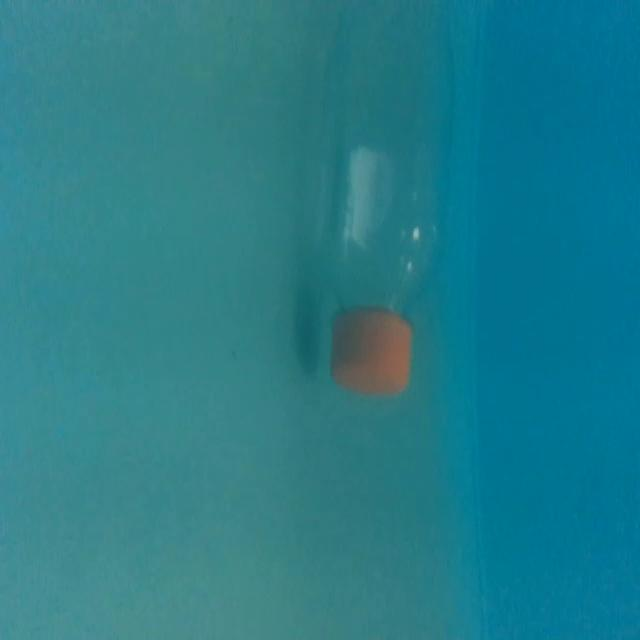plastic bottle: (306, 0, 458, 407)
